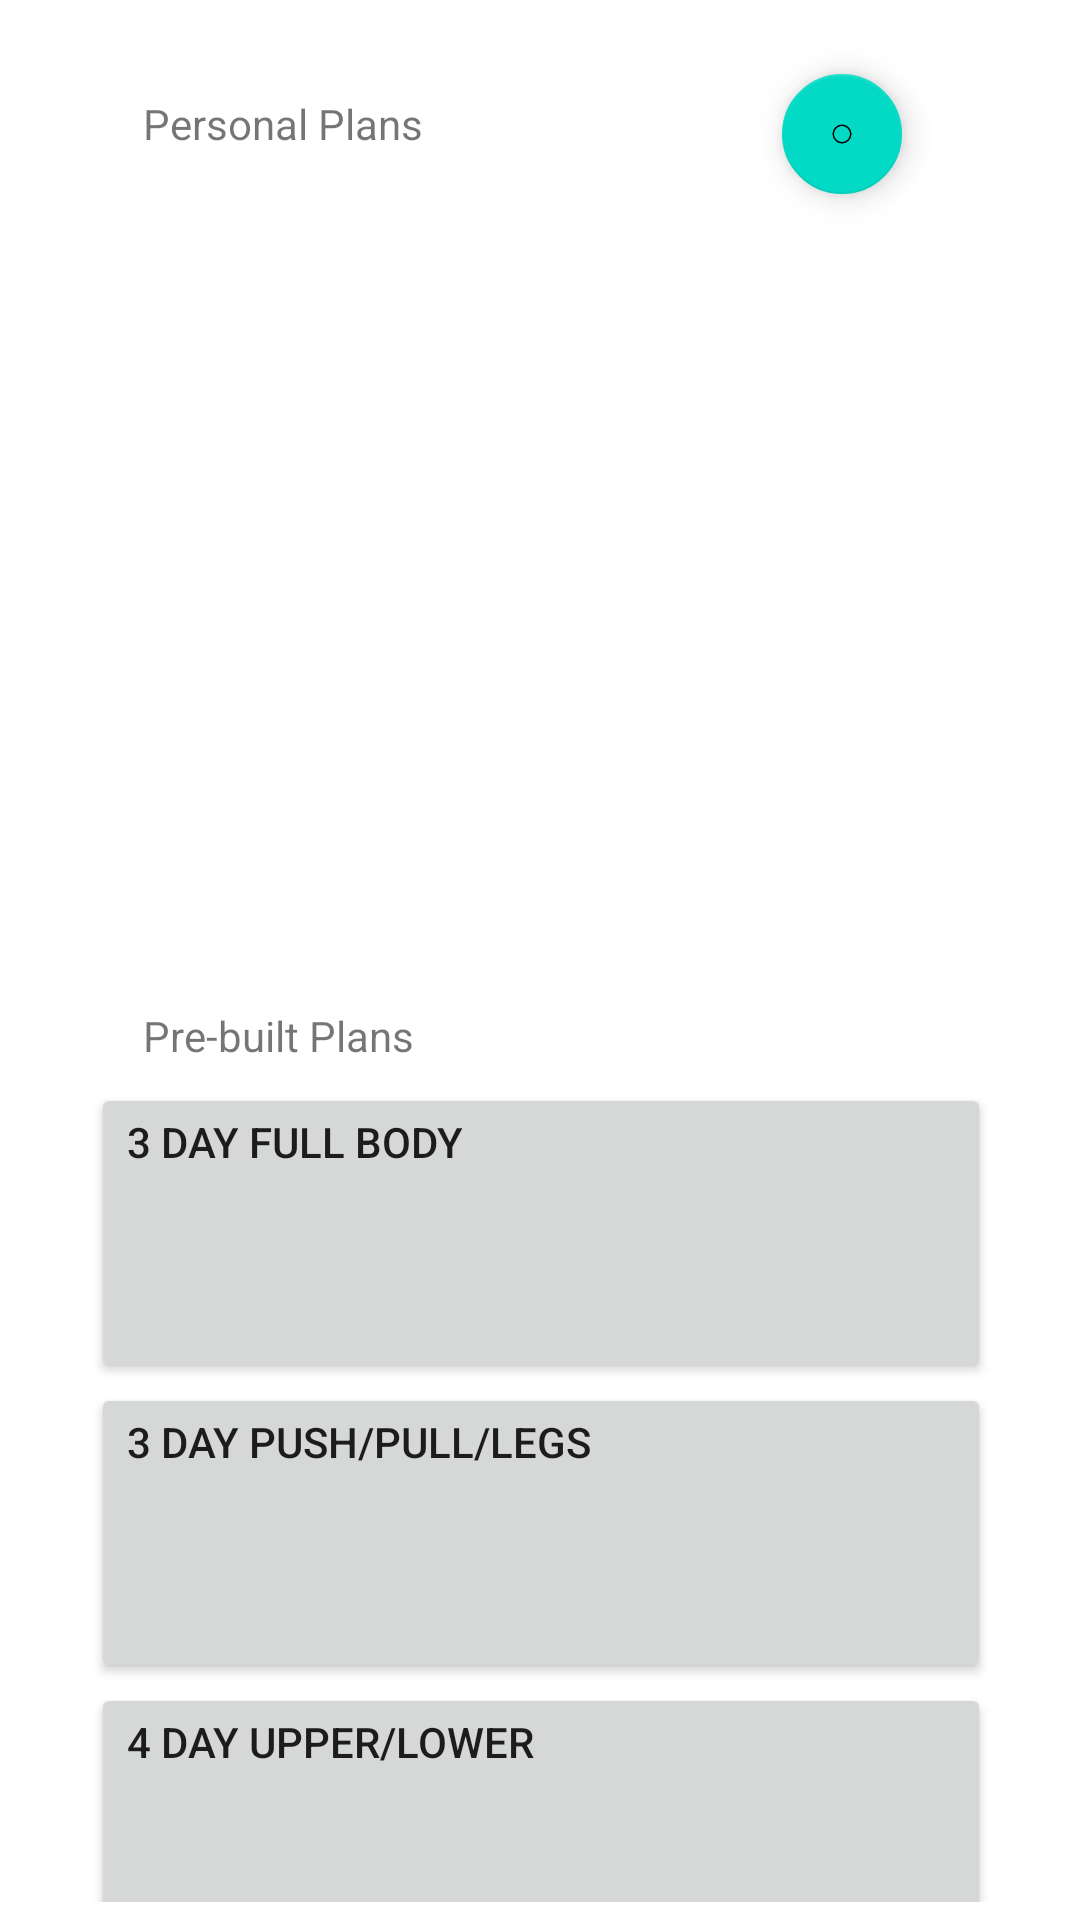

Icons on this 1080x1920 Android screen, each with the point to tap as (x,y):
circle: (842,134)
